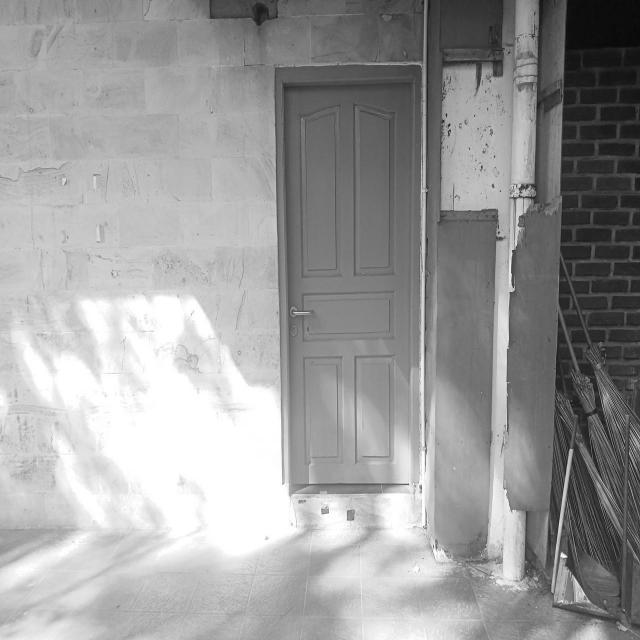door: (276, 66, 424, 490)
